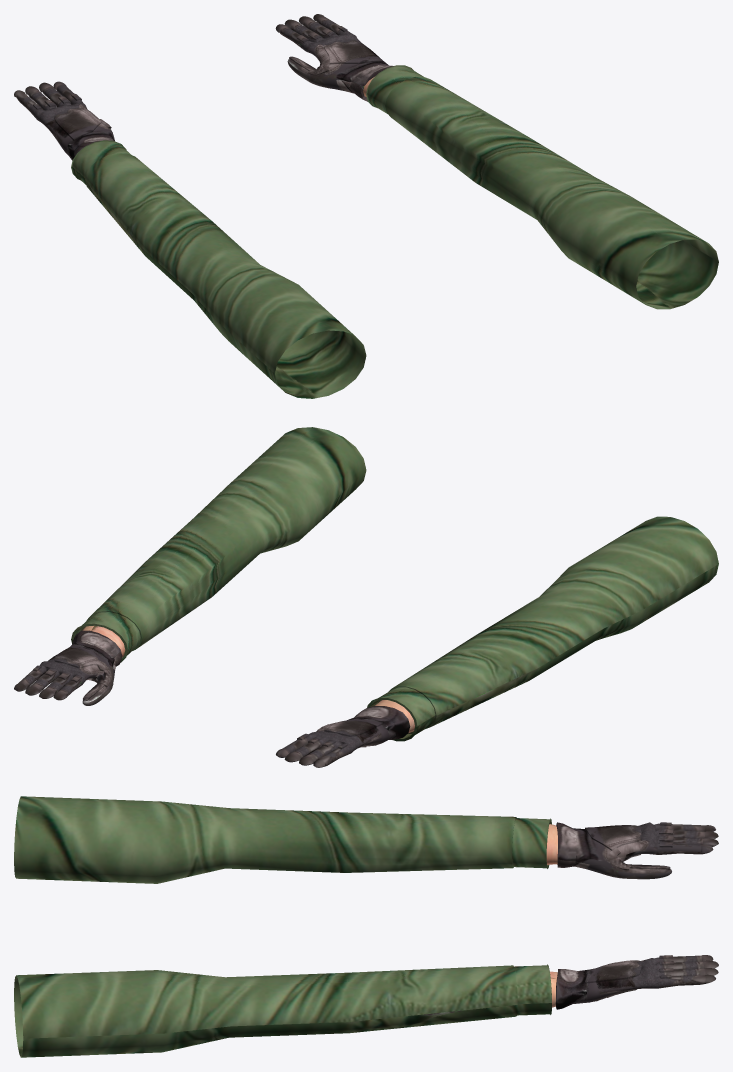
The model's file is hands (1).fbx.
3 renders of one model, top to bottom at view 1: azimuth 30°, elevation 25°; view 2: azimuth 150°, elevation 25°; view 3: azimuth 270°, elevation 25°, orthographic. The views are drawn at different scales.
Parts seen in each view (by area): view 1: Box002; view 2: Box002; view 3: Box002.
Boxes of the visible parts, x1=… form: Box002: x1=14, y1=14, x2=718, y2=398; Box002: x1=14, y1=427, x2=718, y2=767; Box002: x1=14, y1=796, x2=718, y2=1057.
Size of the model in its own units: 1062 by 157 by 1395.
1 material, 1 textured.
